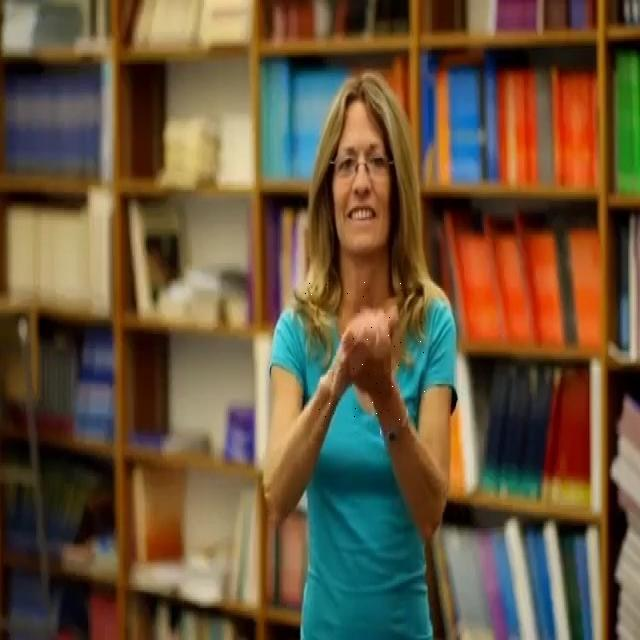burger: (302, 280, 425, 422)
